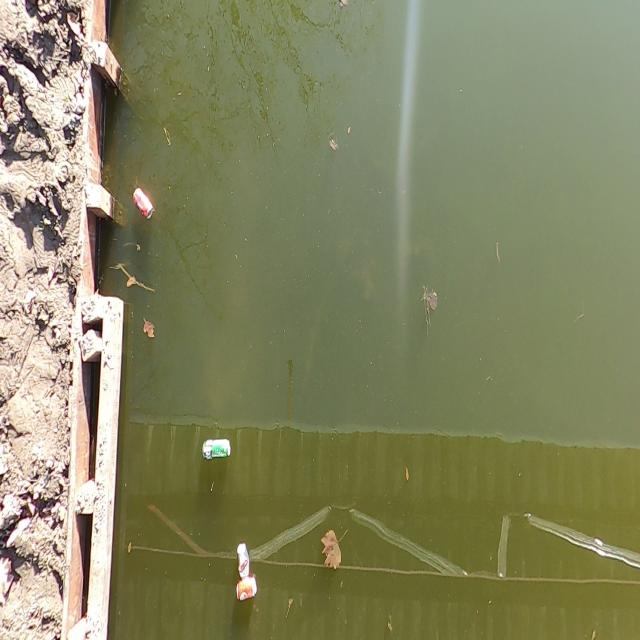Non plastique: (194, 432, 237, 467), (130, 180, 156, 226), (232, 574, 261, 614), (228, 543, 255, 581)
